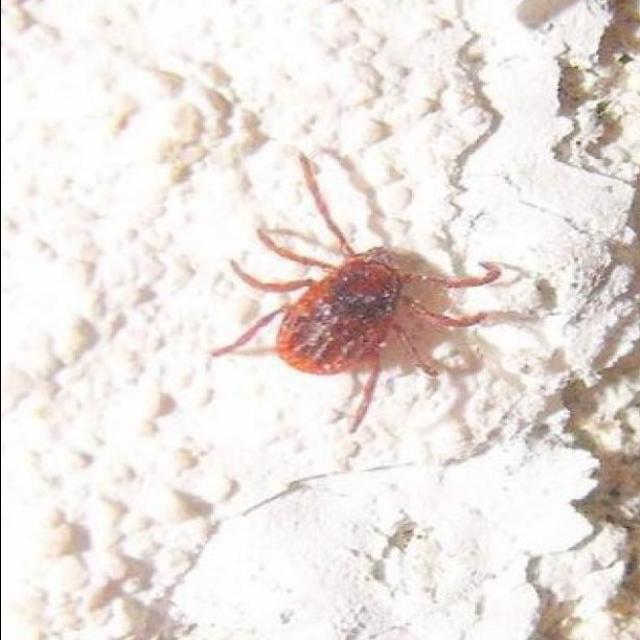Rhipicephalus Sanguineus-F: (208, 152, 500, 434)
